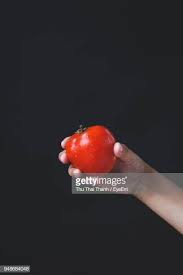tomato: (64, 125, 115, 175)
